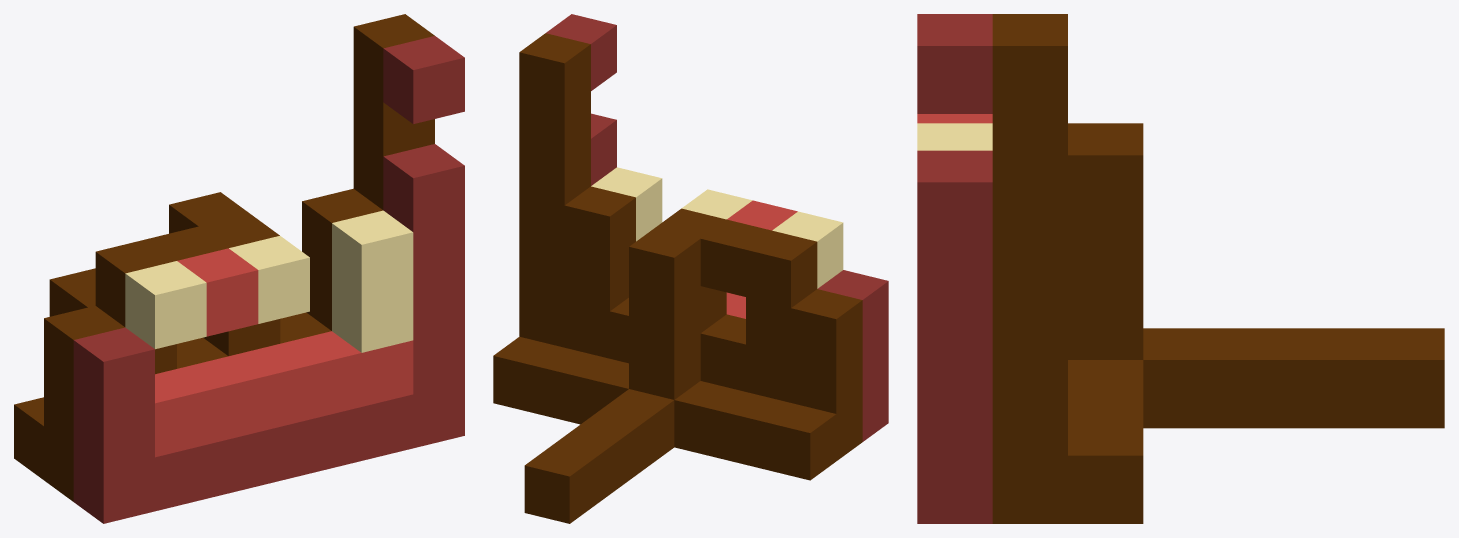
File: Building2_Destroyed2-3.obj
The picture shows the model from 3 angles, left to right: view 1: azimuth 30°, elevation 25°; view 2: azimuth 150°, elevation 25°; view 3: azimuth 270°, elevation 25°; orthographic projection. The views are drawn at different scales.
Bounding box in the file's own units: 0.7 × 0.7 × 0.7.
1 material, 1 textured.
